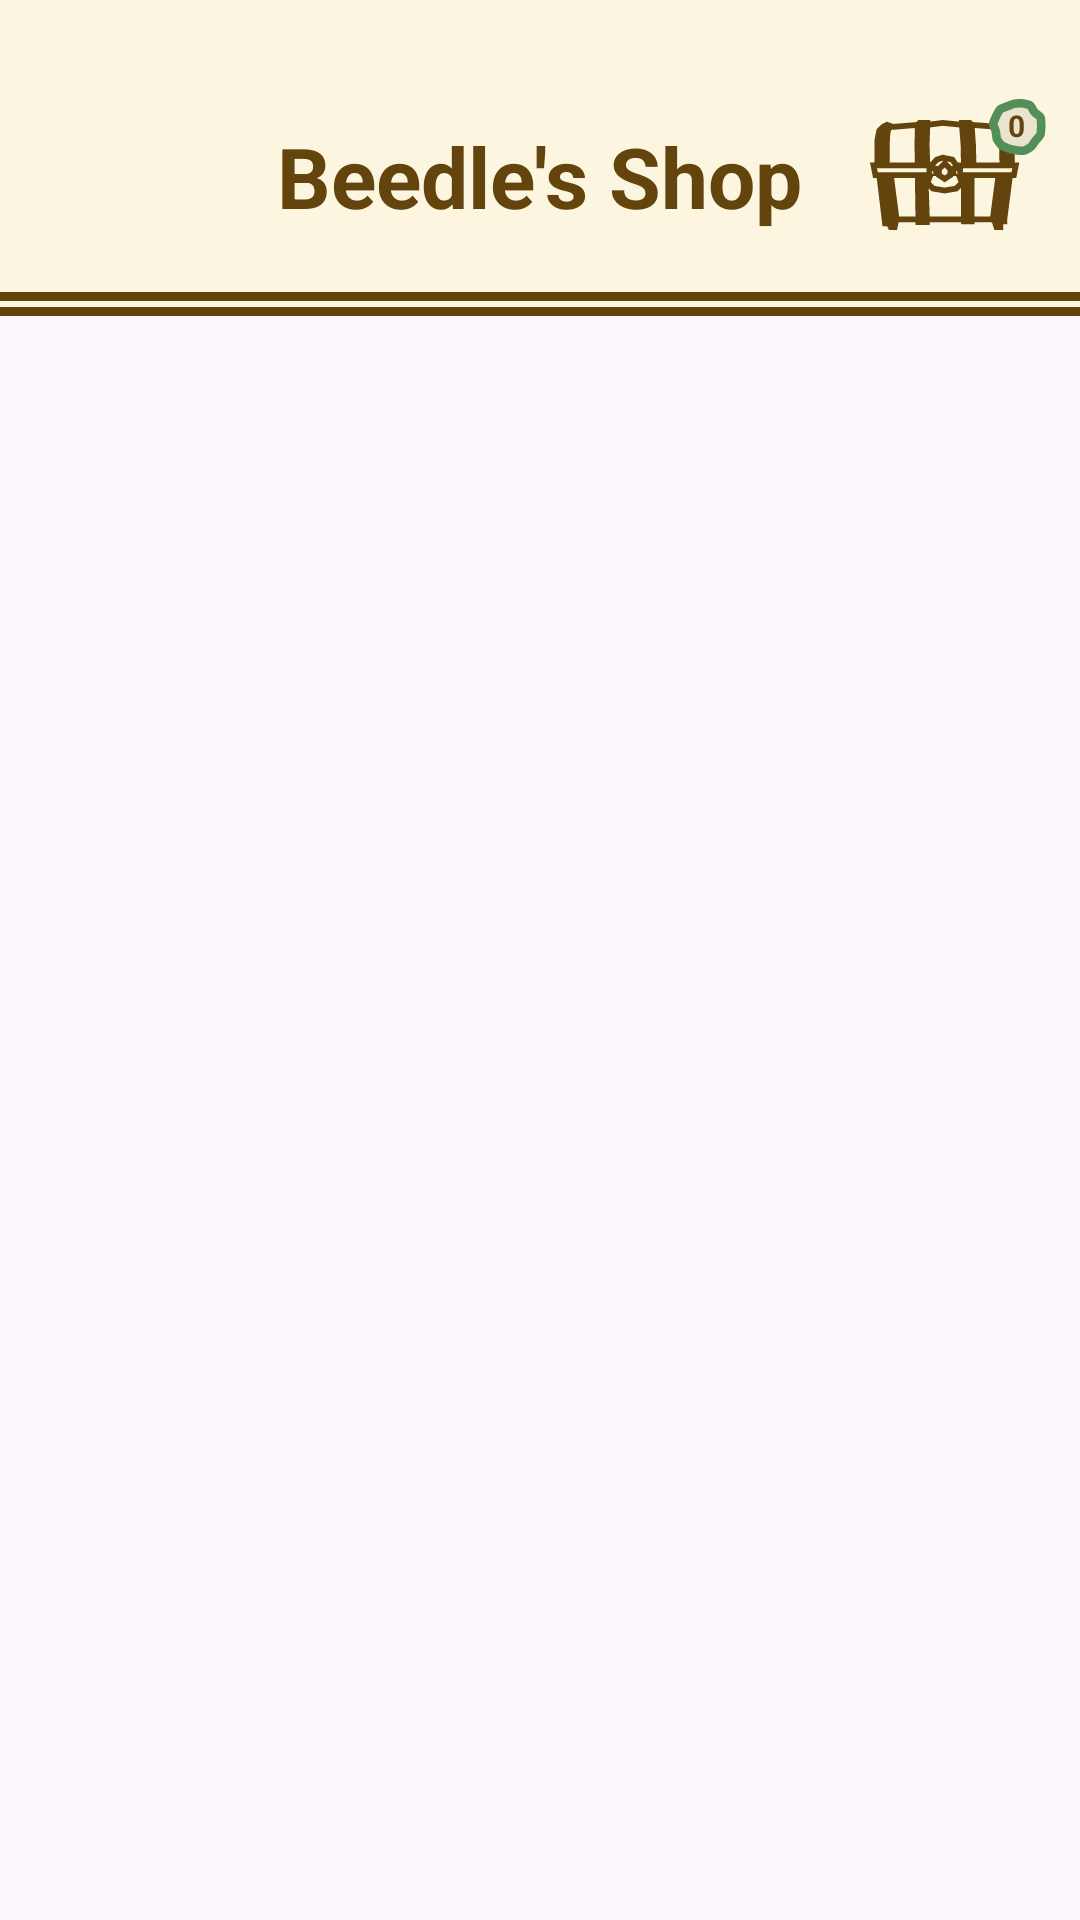

Where to tap for icons on this 1080 x 1920 app screen, as [x,y]:
chest for cart: [945,165]
